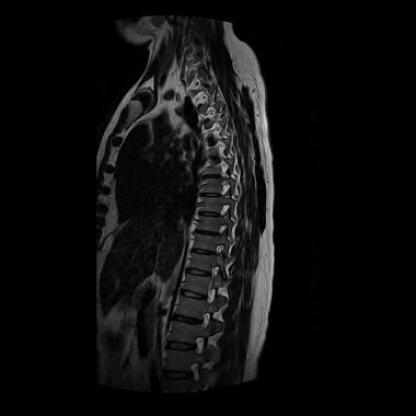Demyelinating Plaquesrotation: (198, 209, 220, 221), (197, 136, 218, 146)
Hemangiomatarotation: (188, 253, 213, 272), (194, 125, 216, 138)
